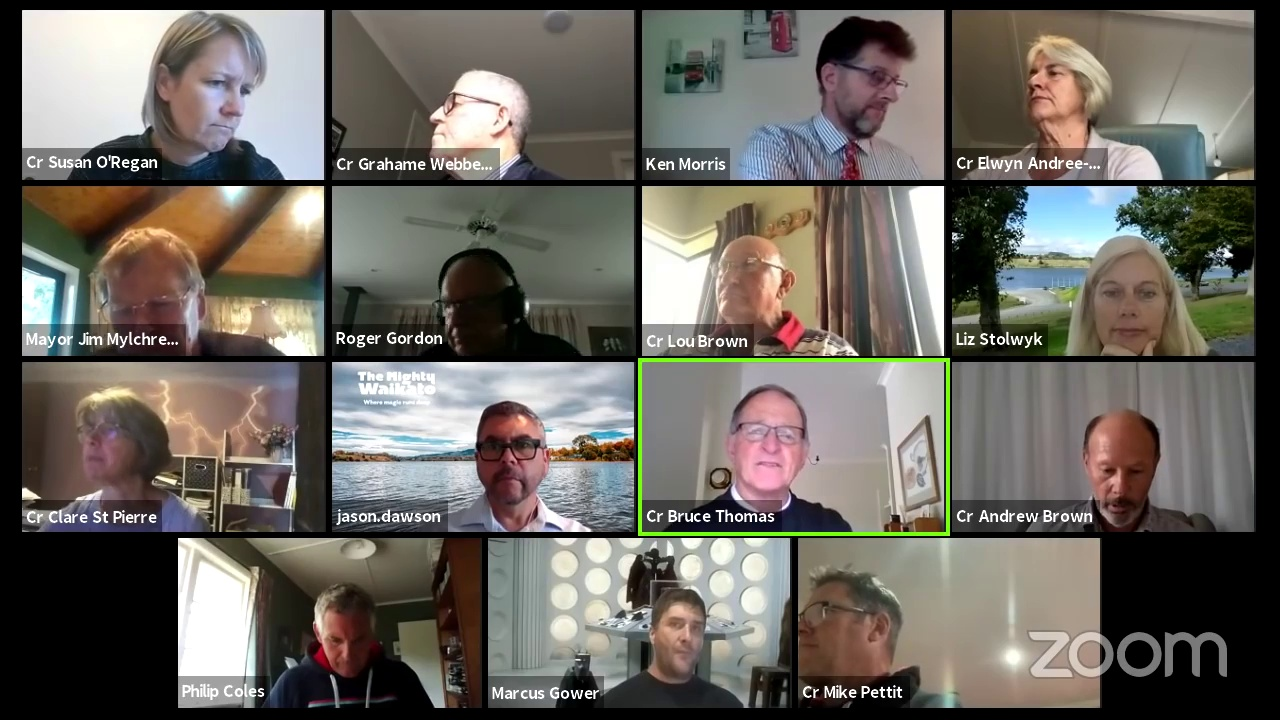Distracted: (804, 19, 906, 135), (798, 565, 903, 674), (1070, 411, 1162, 528), (421, 67, 530, 155), (427, 256, 521, 348), (66, 393, 161, 483), (703, 235, 797, 320), (301, 589, 386, 679), (1021, 34, 1098, 132)
Not Distracted: (143, 21, 265, 153), (93, 233, 219, 339), (1077, 242, 1181, 355), (724, 387, 821, 496), (466, 398, 556, 496), (649, 600, 706, 674)
